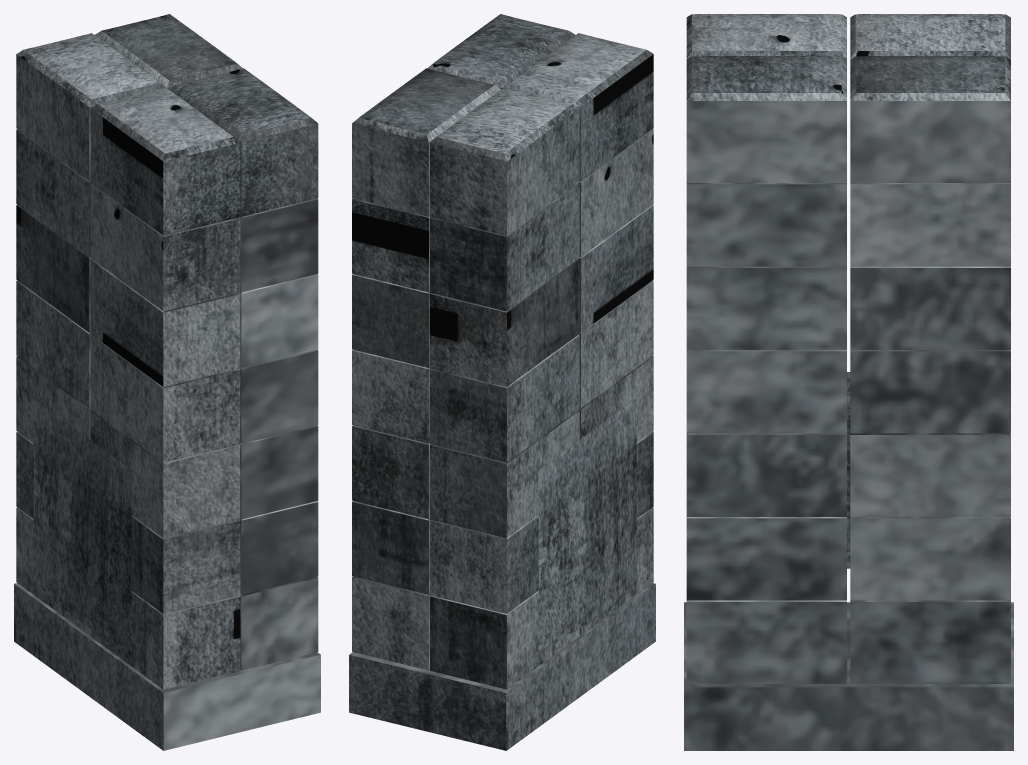
File: store_42.obj
3 renders of one model, left to right at view 1: azimuth 30°, elevation 25°; view 2: azimuth 150°, elevation 25°; view 3: azimuth 270°, elevation 25°, orthographic. The views are drawn at different scales.
Bounding box in the file's own units: 19.68 × 65.68 × 29.82.
